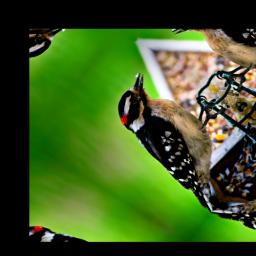Woodpecker: (88, 58, 256, 213)
